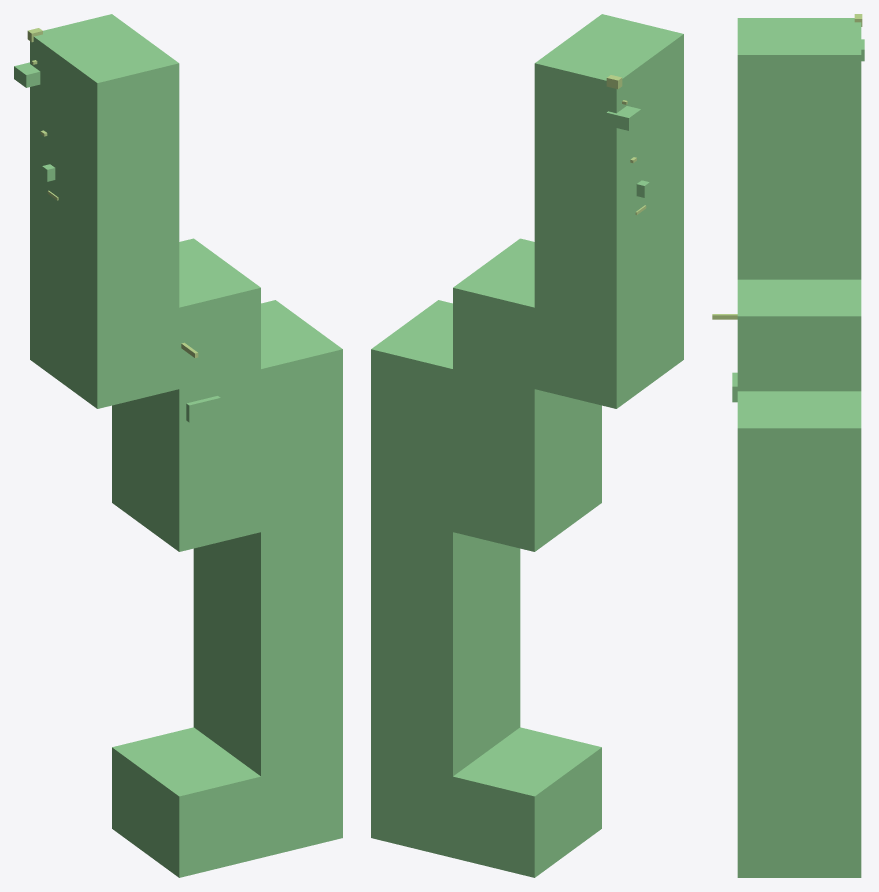
Rendered from thorny-vine-tawpshelf_azL1Ln1mCLg-blocky.glb.
The picture shows the model from 3 angles, left to right: view 1: azimuth 30°, elevation 25°; view 2: azimuth 150°, elevation 25°; view 3: azimuth 270°, elevation 25°; orthographic projection. The views are drawn at different scales.
Visible parts, largest first — view 1: group2084698987, group1614116089; view 2: group2084698987, group310391560; view 3: group2084698987.
Part boxes in pixels (x1=…): group2084698987: x1=30, y1=14, x2=342, y2=877; group1614116089: x1=186, y1=396, x2=220, y2=422; group2084698987: x1=371, y1=14, x2=683, y2=877; group310391560: x1=606, y1=106, x2=641, y2=130; group2084698987: x1=737, y1=18, x2=861, y2=877.
Size of the model in its own units: 1.91 by 5.74 by 1.05.
